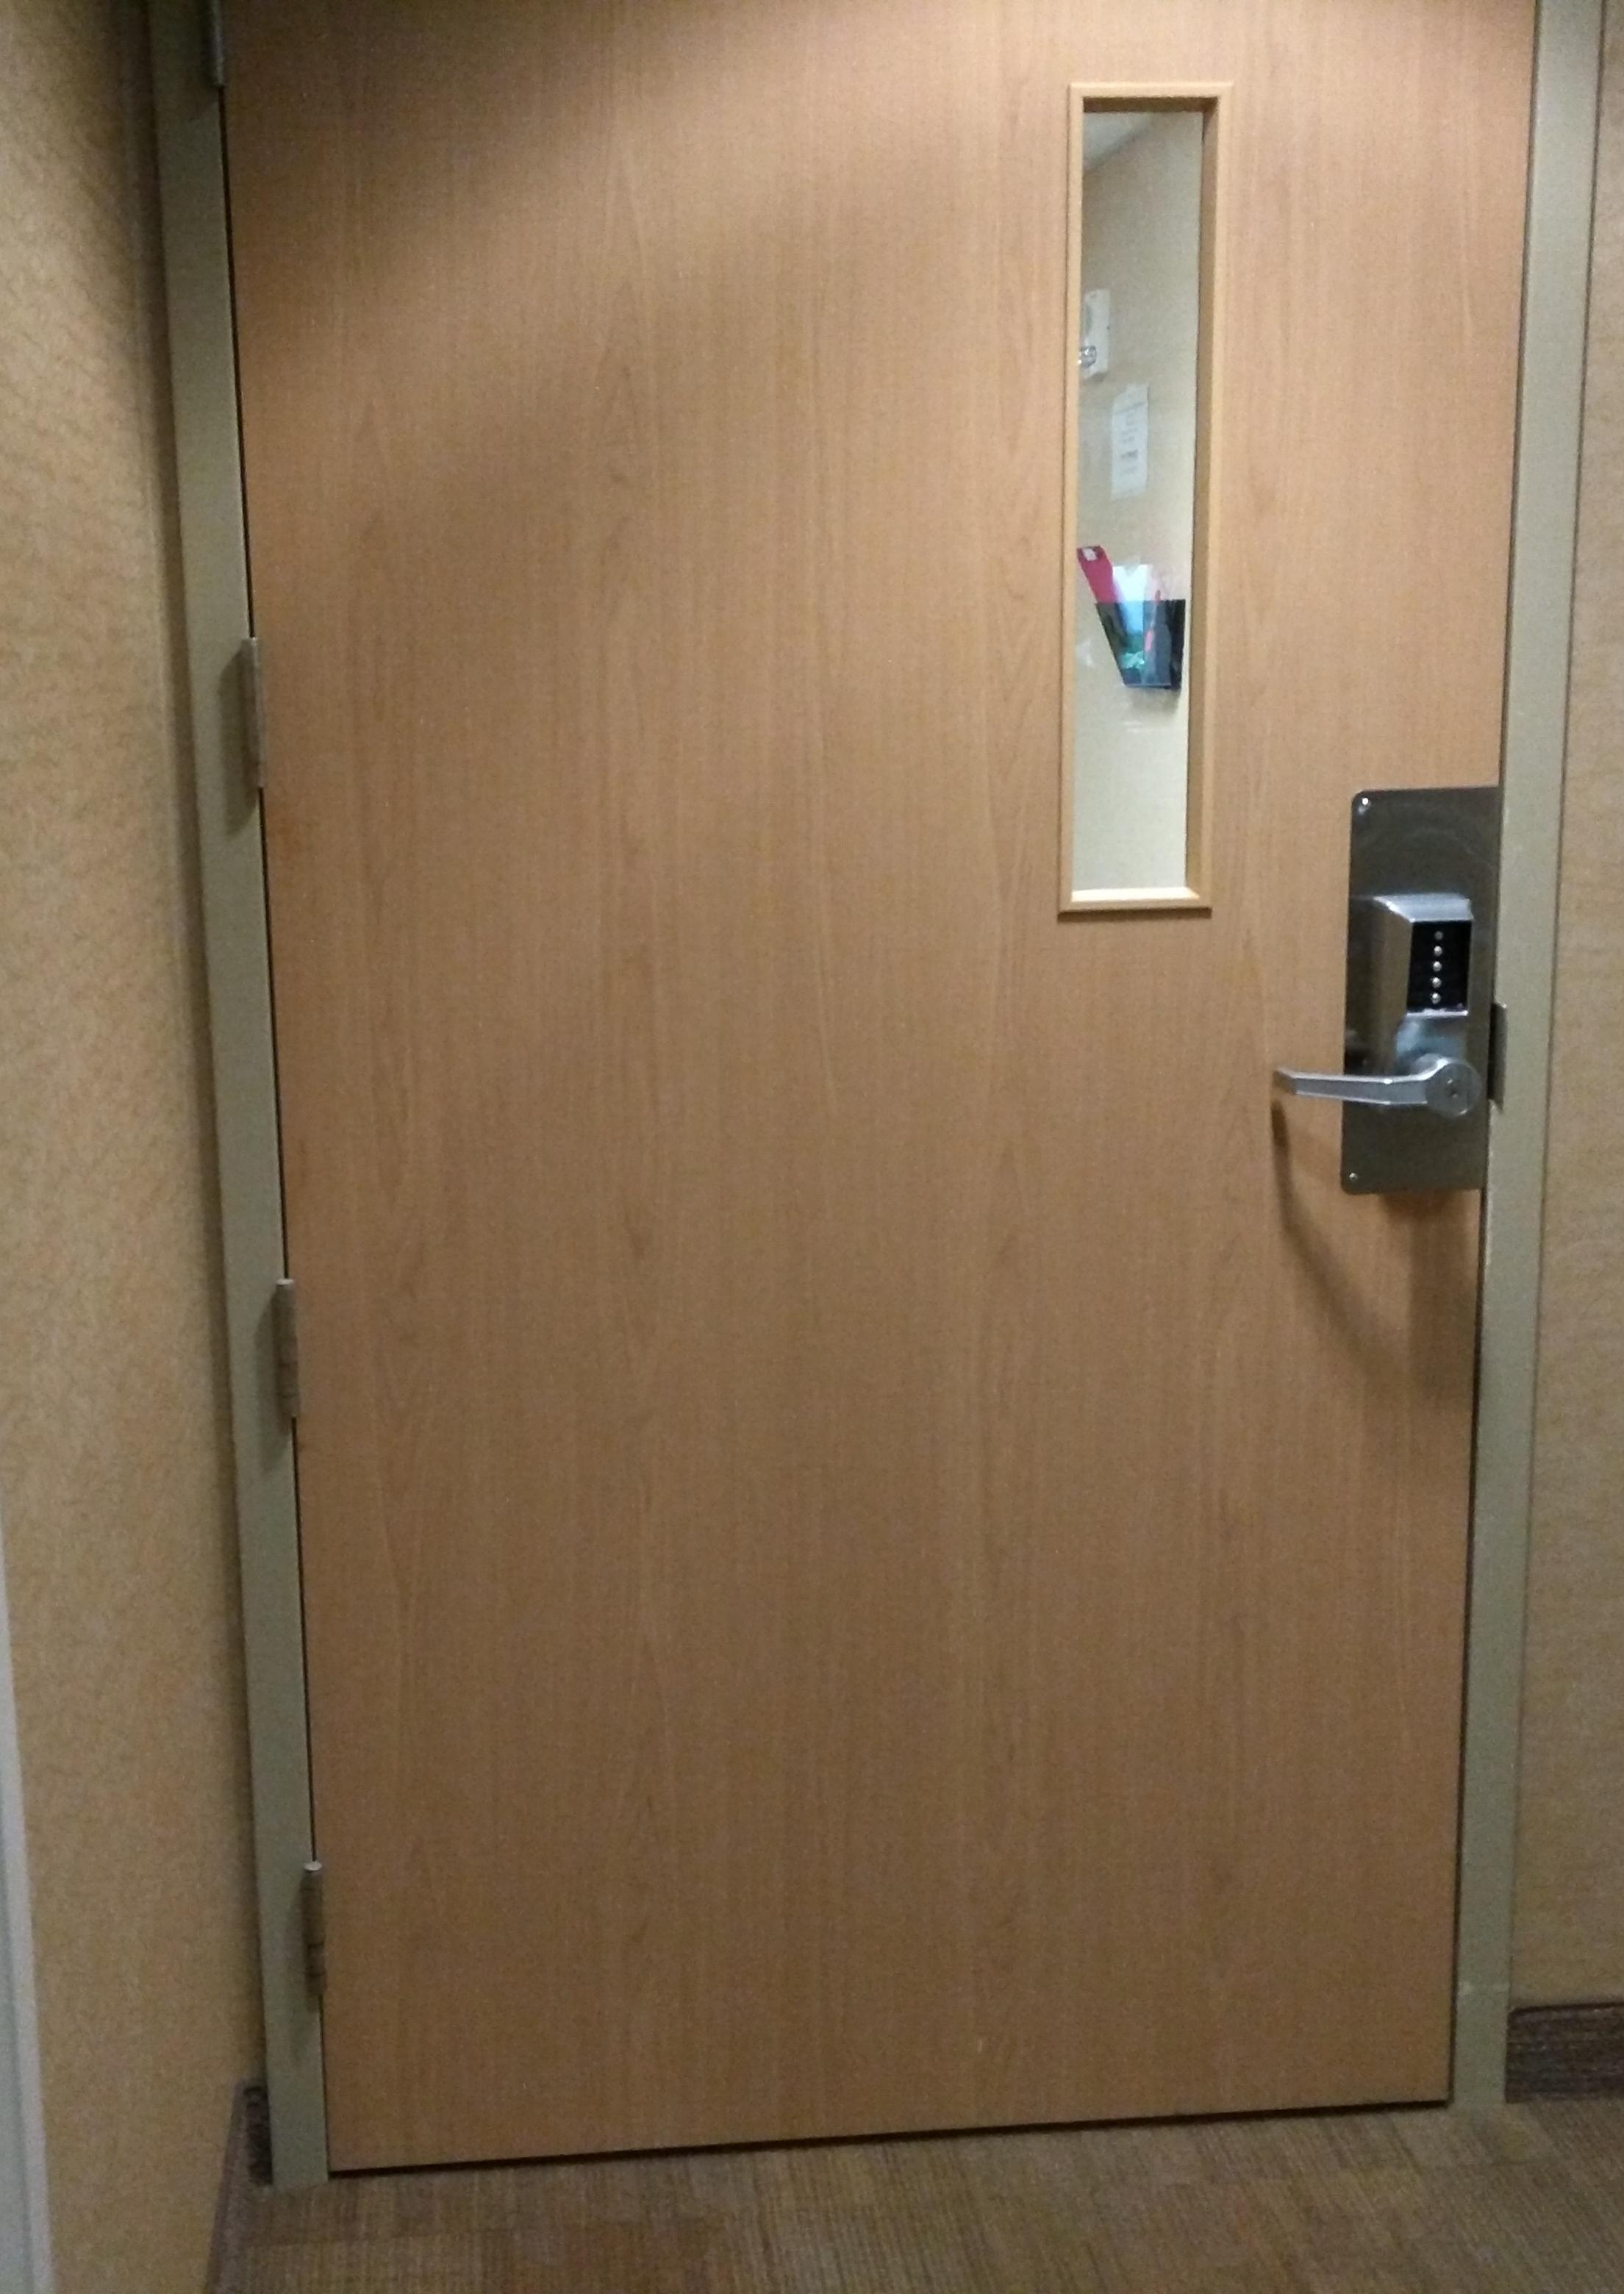handle: (1271, 1027, 1490, 1162)
